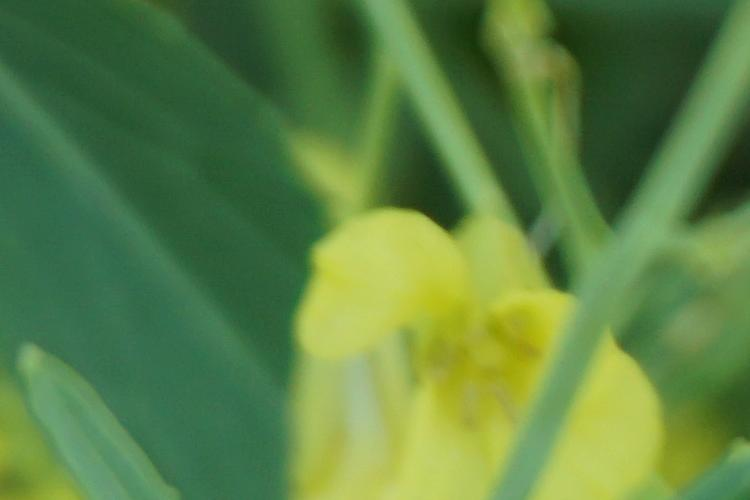yellow: (274, 217, 663, 496)
